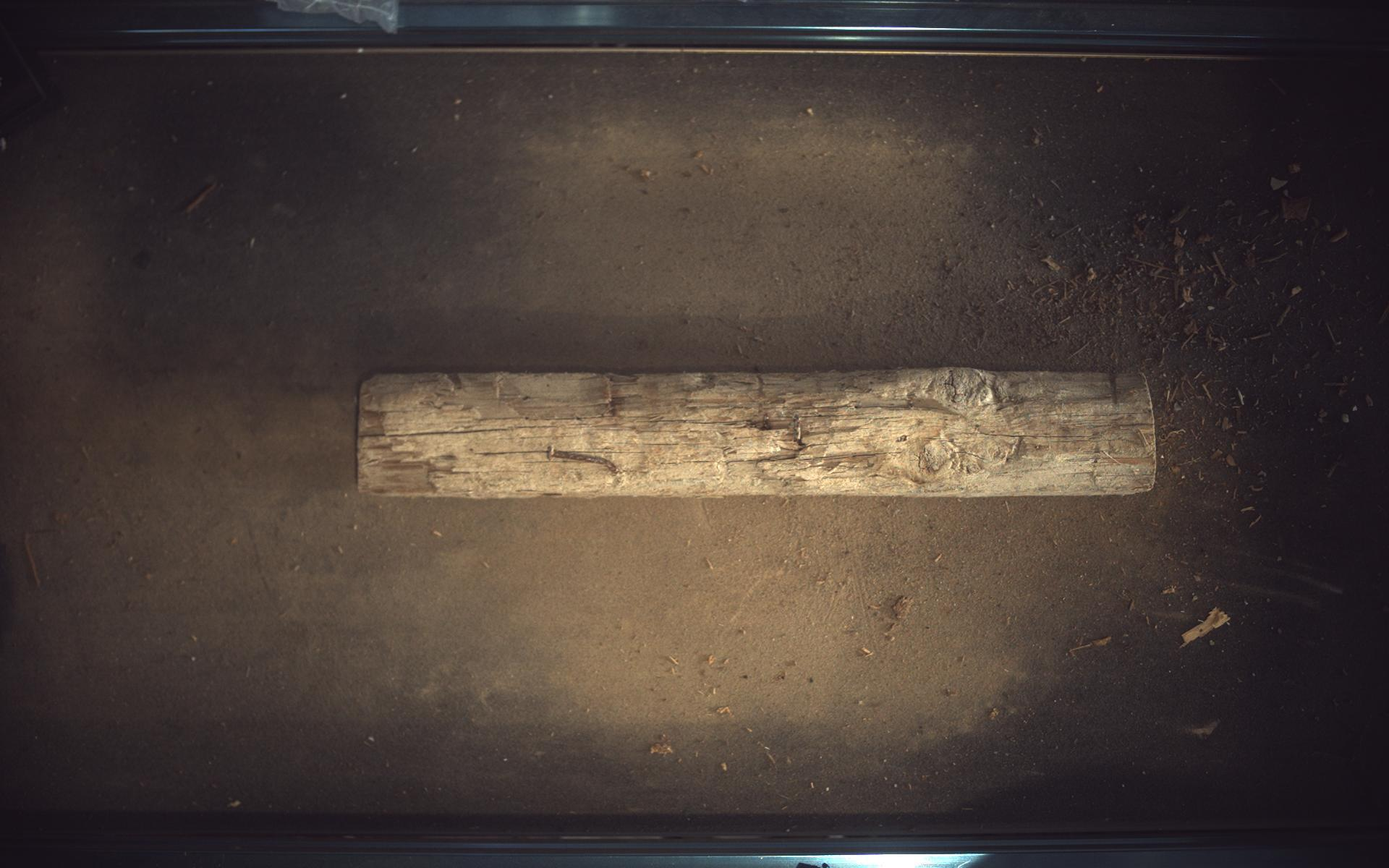wood: (357, 367, 1159, 499)
